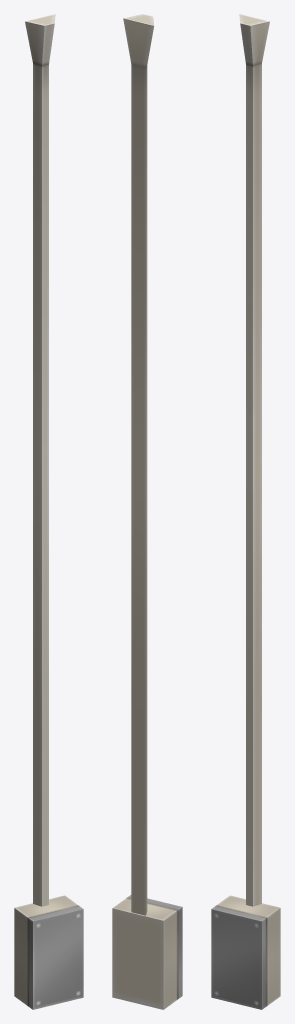
The model's file is set_ceiling_parts_01_02.fbx.
3 views of the same model, side by side, from view 1: azimuth 30°, elevation 25°; view 2: azimuth 150°, elevation 25°; view 3: azimuth 330°, elevation 25° (orthographic).
Visible parts, largest first — view 1: set_ceiling_parts_01_02; view 2: set_ceiling_parts_01_02; view 3: set_ceiling_parts_01_02.
Part boxes in pixels (bbox=[...]): set_ceiling_parts_01_02: bbox=[14, 14, 83, 1009]; set_ceiling_parts_01_02: bbox=[112, 14, 182, 1009]; set_ceiling_parts_01_02: bbox=[211, 14, 280, 1009].
Size of the model in its own units: 6 by 110 by 3.86.
